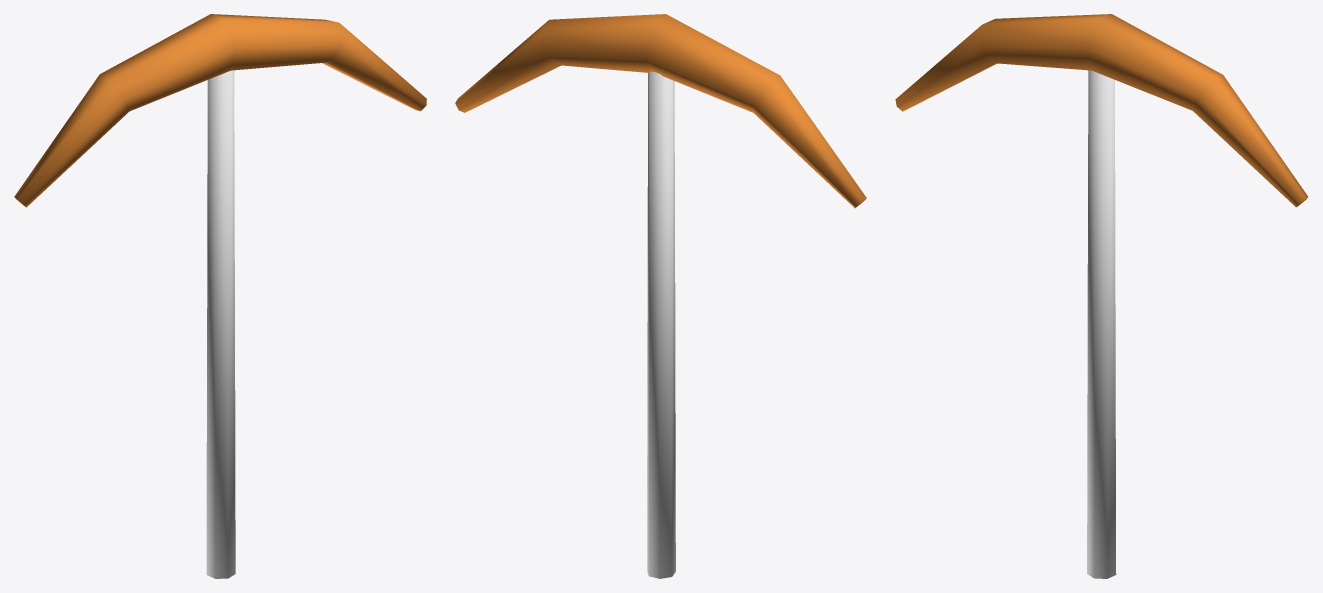
Rendered from solar_flare_pickaxe.glb.
3 views of the same model, side by side, from view 1: azimuth 30°, elevation 25°; view 2: azimuth 150°, elevation 25°; view 3: azimuth 330°, elevation 25° (orthographic).
Visible parts, largest first — view 1: solar_flare_pickaxe_v0; view 2: solar_flare_pickaxe_v0; view 3: solar_flare_pickaxe_v0.
Part boxes in pixels (box(x1,y1,x2,y2)): solar_flare_pickaxe_v0: box(14, 14, 426, 578); solar_flare_pickaxe_v0: box(455, 14, 866, 578); solar_flare_pickaxe_v0: box(895, 14, 1307, 578).
Size of the model in its own units: 0.6949 by 0.9026 by 0.0883.
